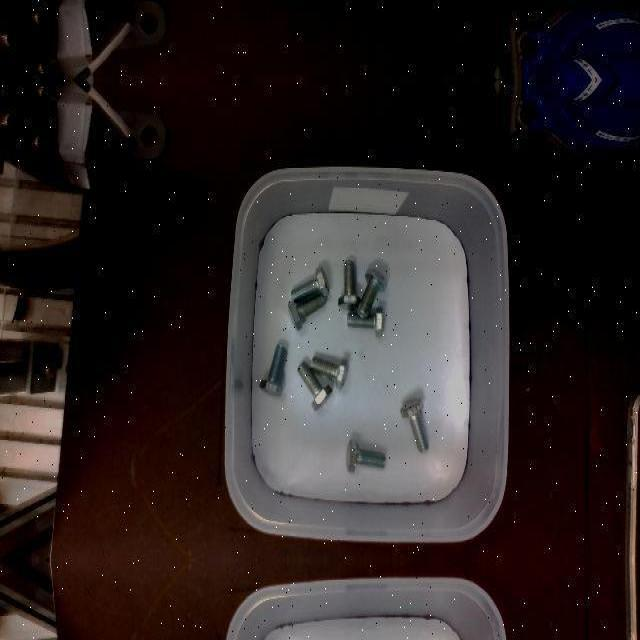screw: (297, 361, 332, 411), (400, 397, 429, 451), (356, 268, 386, 318), (259, 344, 287, 396), (290, 265, 328, 303), (287, 293, 325, 331), (345, 438, 385, 472), (309, 357, 348, 391), (338, 259, 361, 309)
